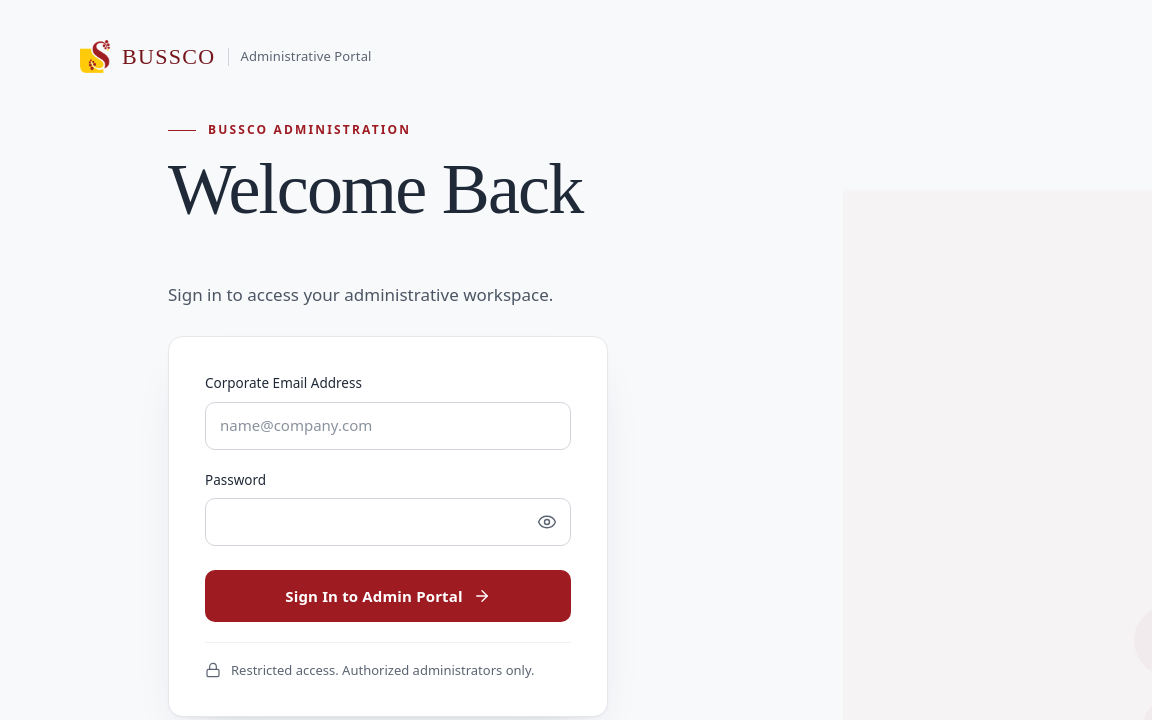
Scenario: AdminLoginPage › gives one generic answer for rejected credentials, clears only the password, and hides it on edit
Expected: the heading "Welcome Back" is shown, [168,153,652,268]
Type " Sam@Example.com " into the field labelled "Corporate Email Address". click: (388, 426)
box: [205,402,571,450]
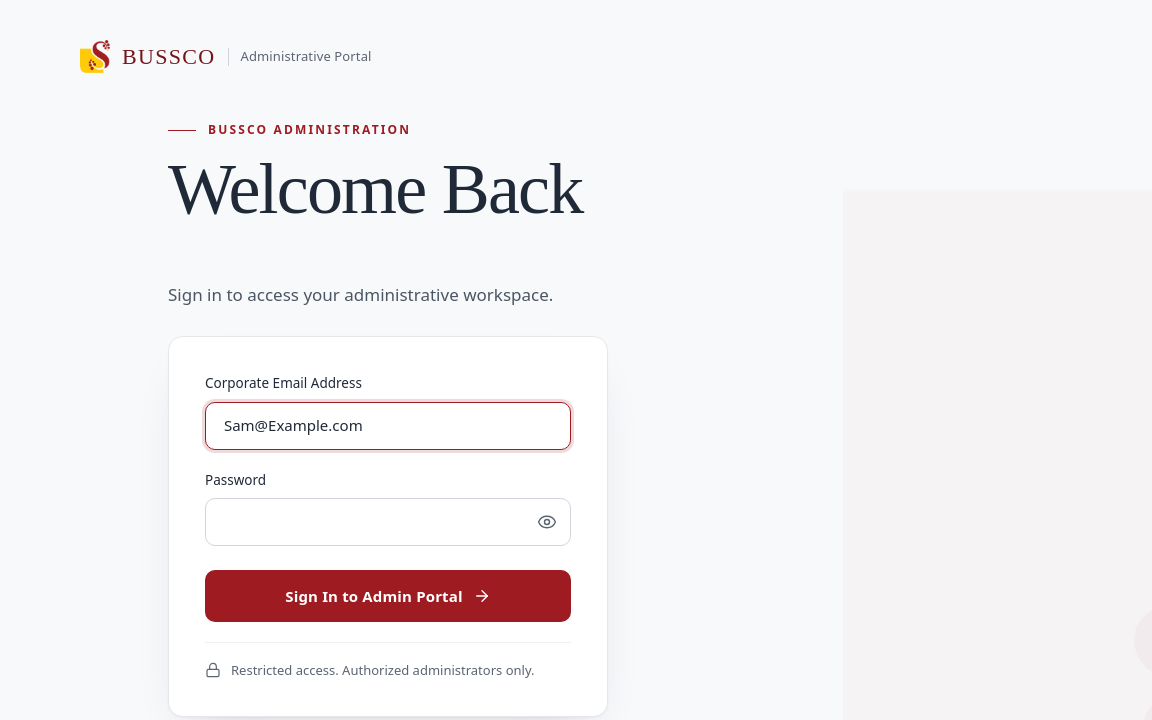
Type "a password" into the password field labelled "Password". click: (388, 522)
box: [205,498,571,546]
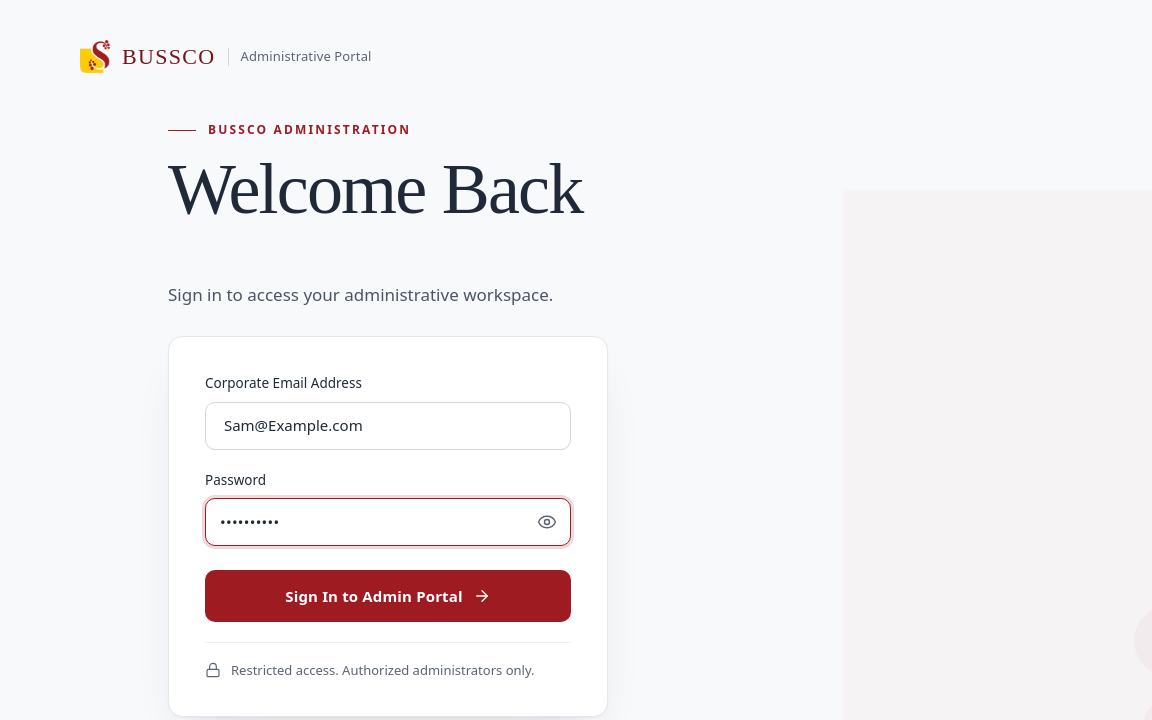
Click the button "Sign In to Admin Portal". click: (388, 596)
box: [205,570,571,622]
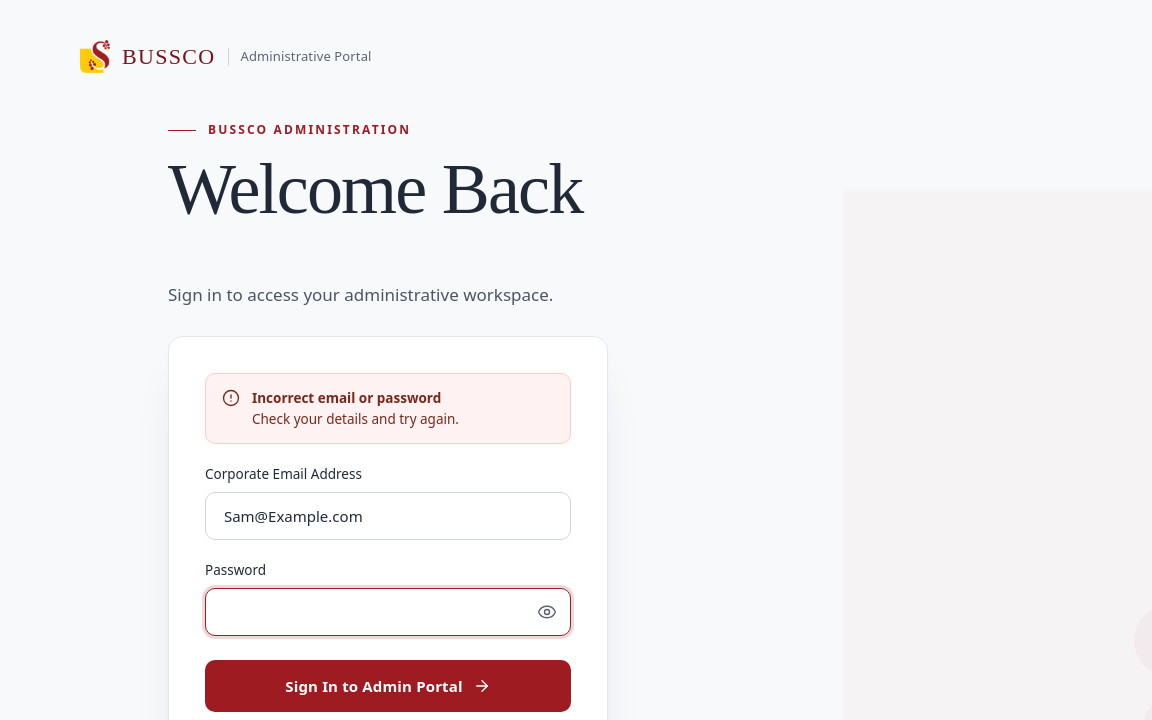
Expected: the message shows "Incorrect email or password", [252,389,441,407]
Expected: the message shows "Check your details and try again.", [252,410,459,428]
Expected: the password field labelled "Password" is empty
Type "y" into the password field labelled "Password". click: (388, 612)
box: [205,588,571,636]
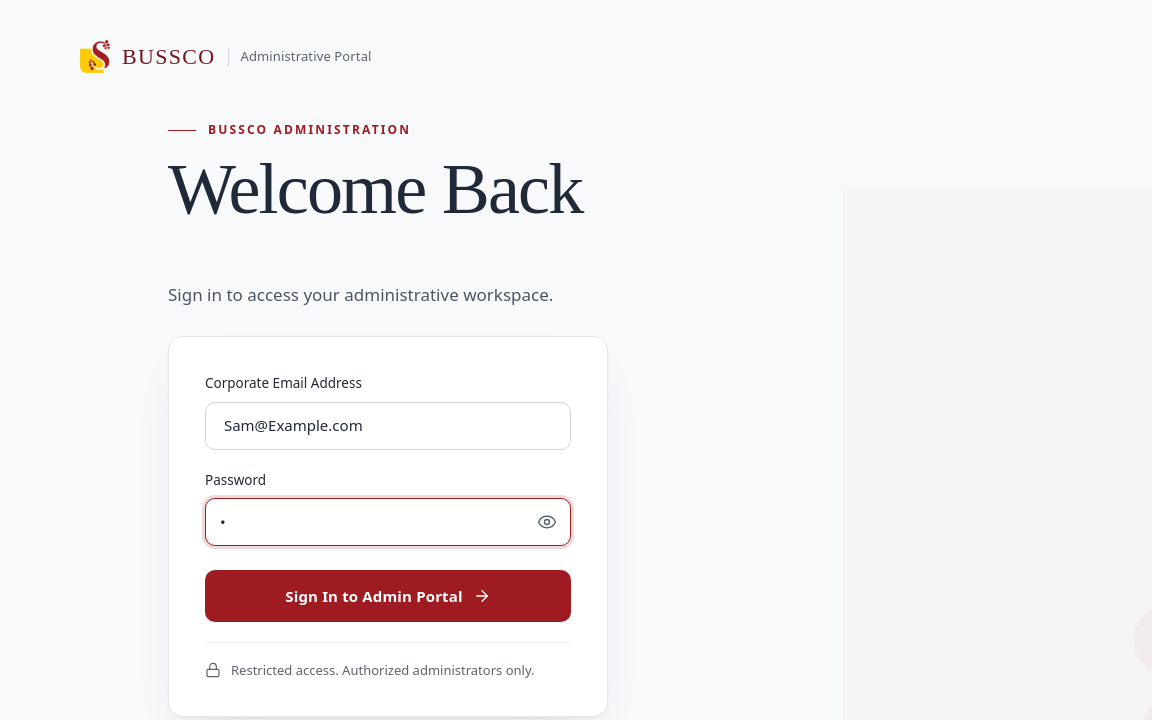
Expected: the message "Incorrect email or password Check your details and try again." is gone
